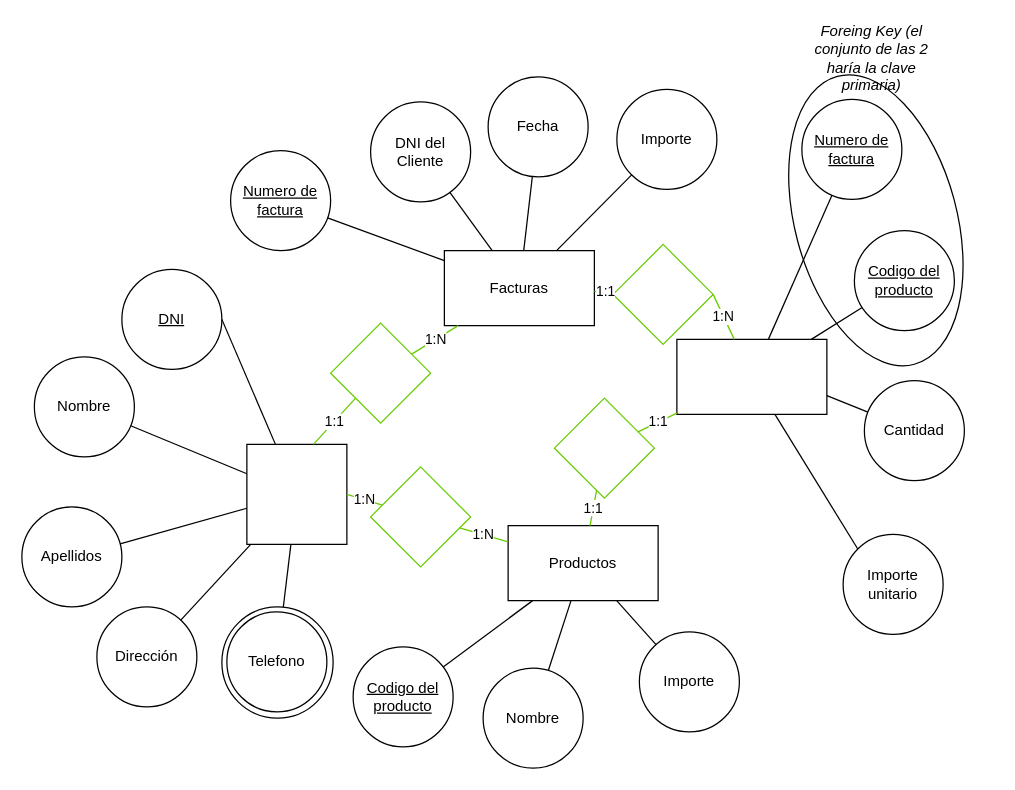
This 1015x790 diagram has some shape labels left out. Each missing label, with the centre of its shape:
Cliente: point 296,493
compra: point 420,516
contiene: point 603,447
Genera: point 380,372
Lineas de factura: point 751,376
tiene: point 662,293
